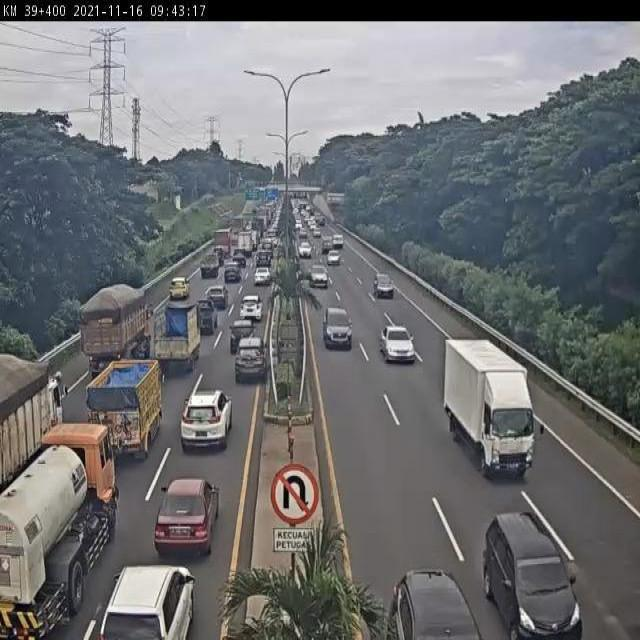car: (486, 508, 575, 640), (102, 565, 193, 640), (155, 480, 218, 557), (178, 388, 234, 453), (232, 336, 267, 388), (381, 321, 417, 367), (323, 305, 353, 351), (228, 319, 255, 356), (191, 298, 218, 334), (371, 272, 396, 300), (239, 295, 263, 321), (198, 252, 220, 280), (308, 263, 330, 291), (167, 275, 191, 300), (207, 284, 228, 311), (223, 260, 243, 284), (252, 264, 271, 287)
truck: (1, 422, 119, 638), (446, 335, 537, 477), (0, 357, 64, 496), (78, 286, 156, 390), (88, 363, 162, 461), (146, 303, 200, 380)
